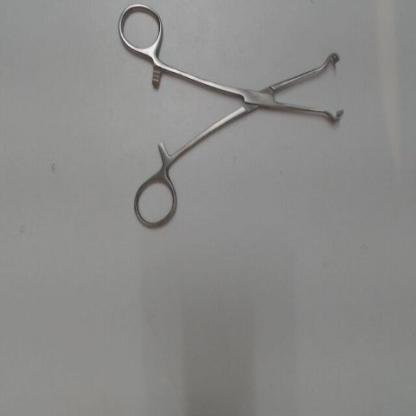Babcock Tissue Forceps: (113, 2, 352, 235)
